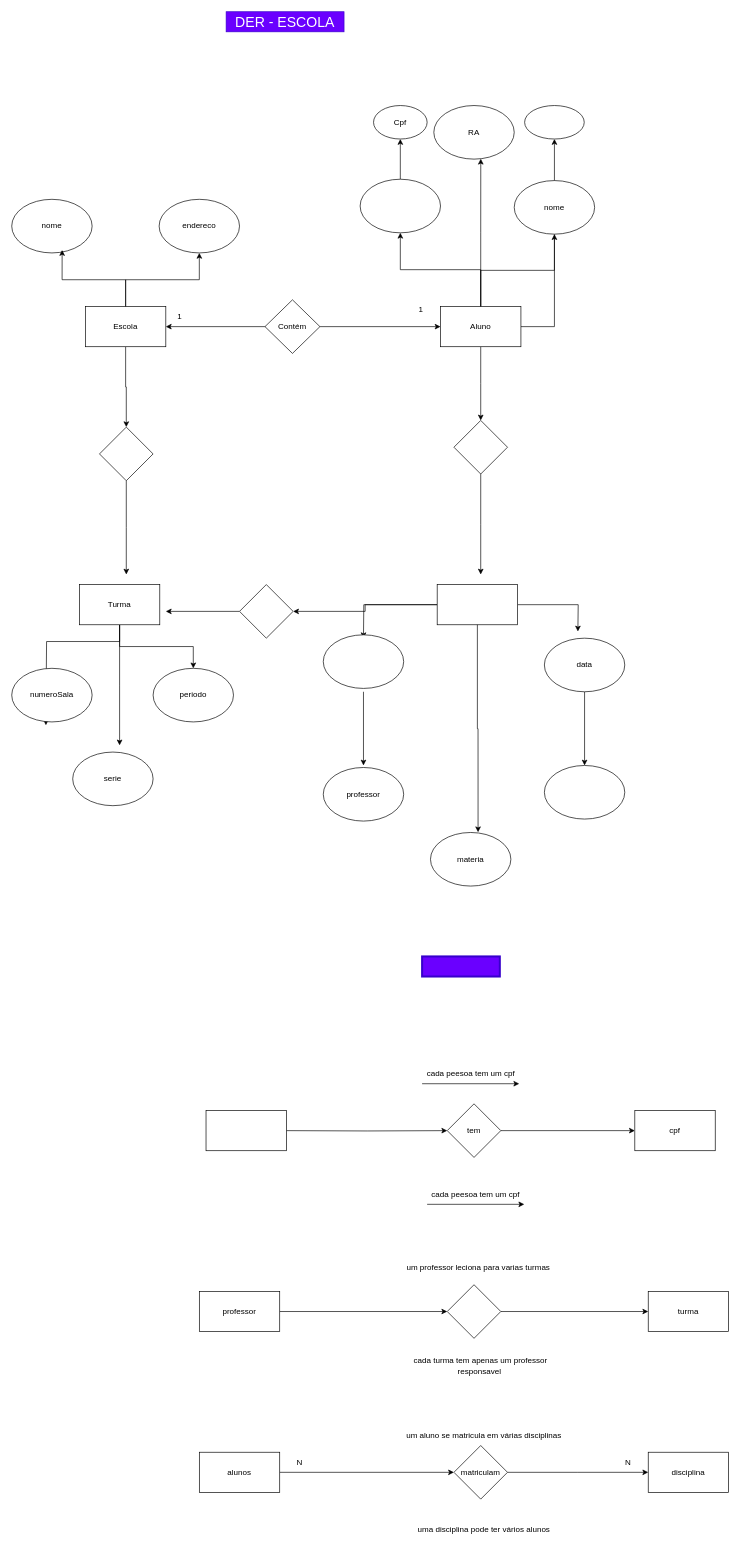
Some shapes in this 740 by 1551 pixel diagram are drawn without their labels. Here are the shapes that lost their labels. From the top down, the box of each, then its label:
(524, 105, 584, 139): idade
(359, 179, 441, 233): dataNascimeto
(99, 426, 153, 481): contem
(453, 420, 508, 474): realiza
(239, 584, 293, 638): pertence
(437, 584, 518, 625): Provas
(323, 634, 404, 688): tempo
(544, 765, 625, 819): nota
(421, 955, 500, 977): Cardinalidade
(205, 1110, 286, 1151): pessoa
(447, 1284, 501, 1338): leciona
